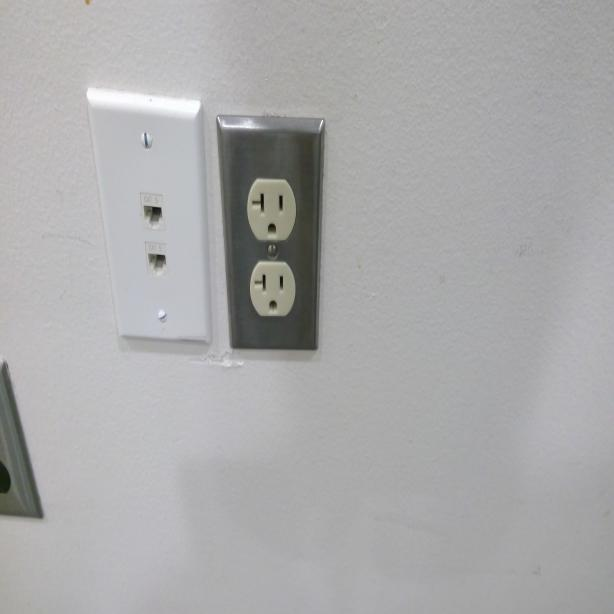typeb: (249, 172, 298, 245), (247, 256, 294, 318)
